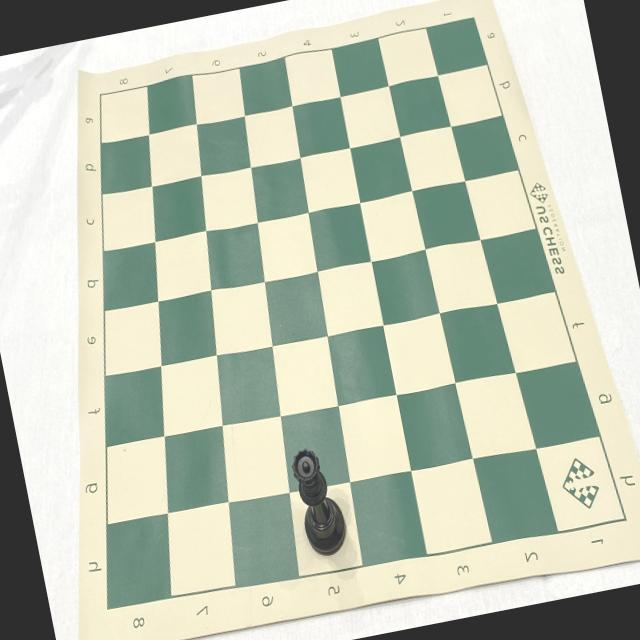black-queen: (288, 442, 352, 560)
